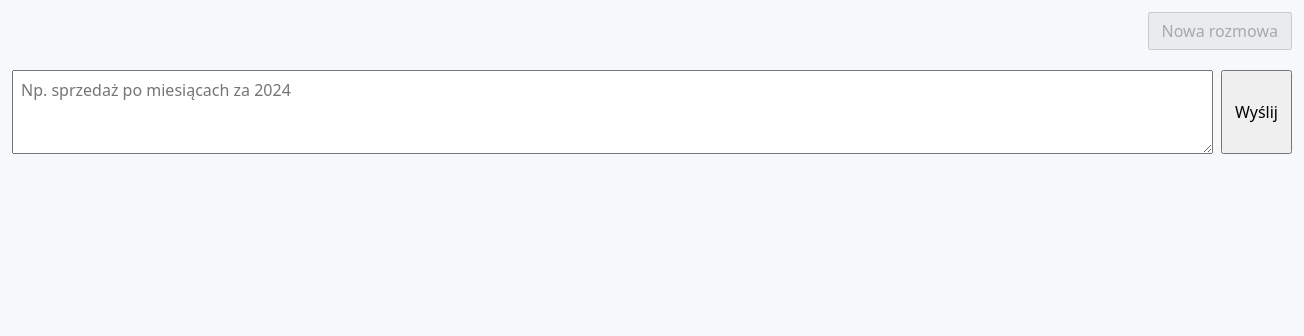
ChatView › shows the message, the assumptions and the tables of an answer
This screenshot has width=1304, height=336.
Type "Raport" into the text box named "Twoja prośba" at (612, 112), box top-left (12, 70), bottom-right (1213, 154)
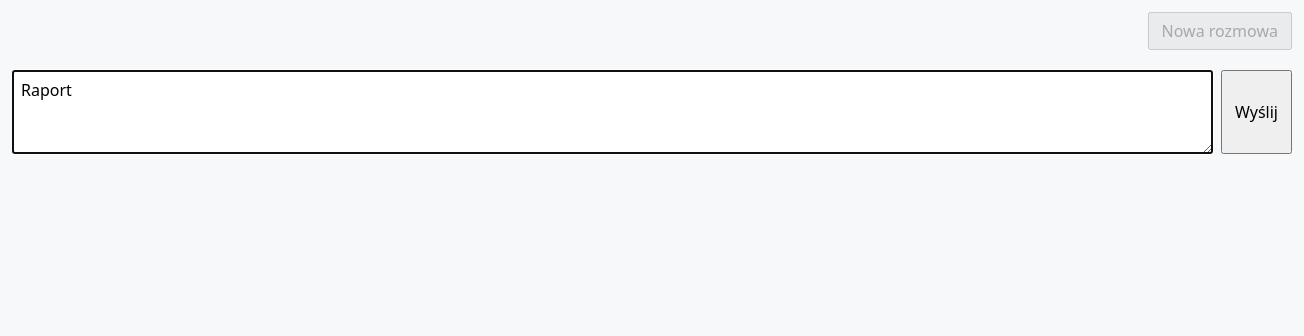
Click the button "Wyślij" at (1256, 112), box top-left (1221, 70), bottom-right (1292, 154)
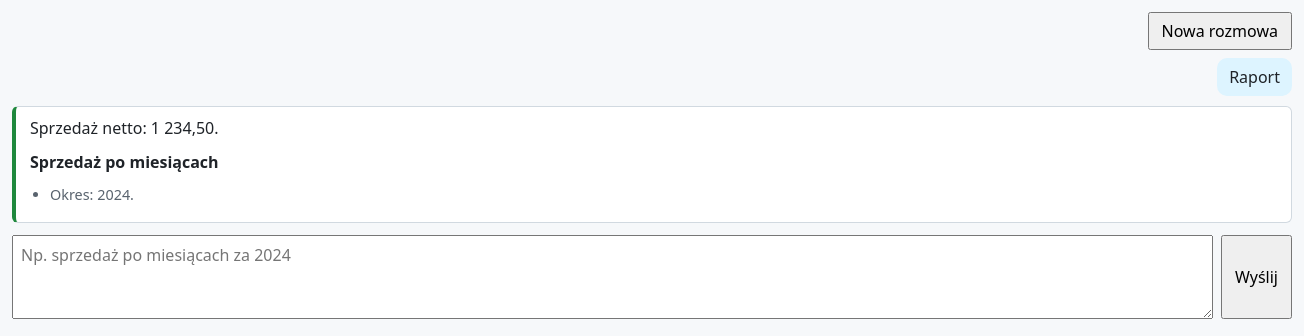
Result: the text "Sprzedaż netto: 1 234,50." is shown at top-left (30, 117), bottom-right (218, 139)
Result: the list item "Okres: 2024." is shown at top-left (50, 185), bottom-right (134, 204)
Result: the heading "Sprzedaż po miesiącach" is shown at top-left (30, 151), bottom-right (219, 173)
